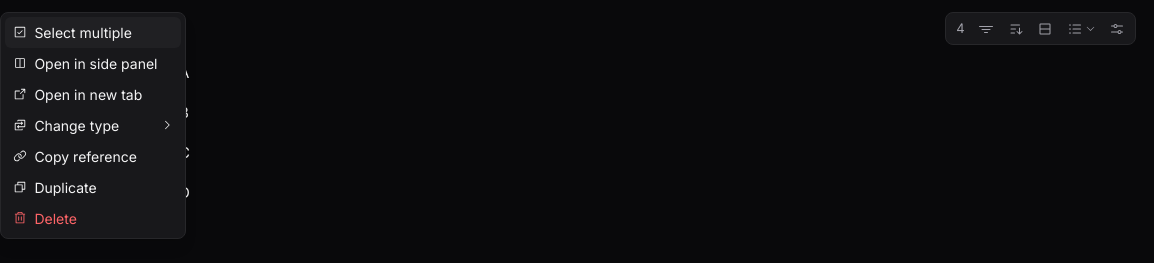
Test: DataView multi-select (Task 18) › test bar shows count
The width and height of the screenshot is (1154, 263).
Click the menu item "Select multiple": (93, 32) [5,17,181,48]
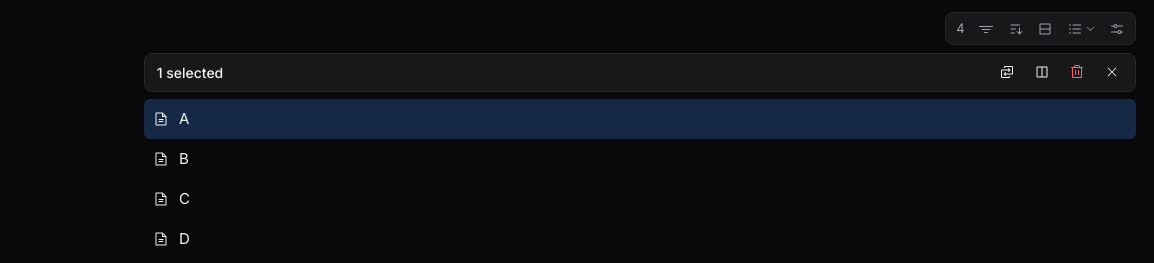
Click the button "C": (161, 199) [144,179,1136,219]
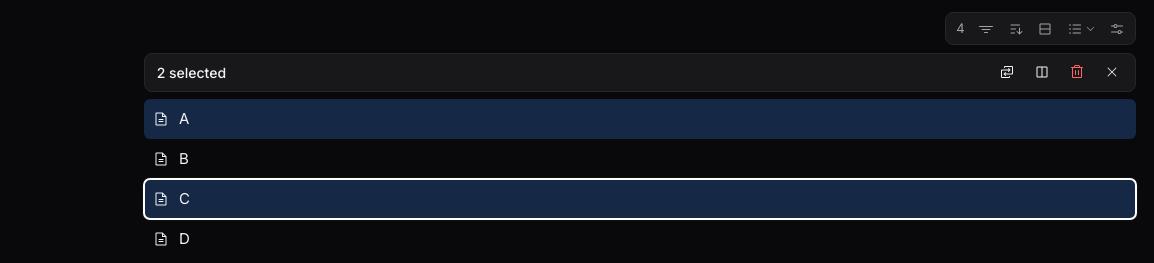
Check: the button named "Change the type of the selection" is shown, box [992,57,1023,88]
Check: the button named "Open the selection in the side panel" is shown, box [1026,57,1058,88]
Check: the element with test id "selection-bar" reads "2 selected", box [157,64,226,81]
